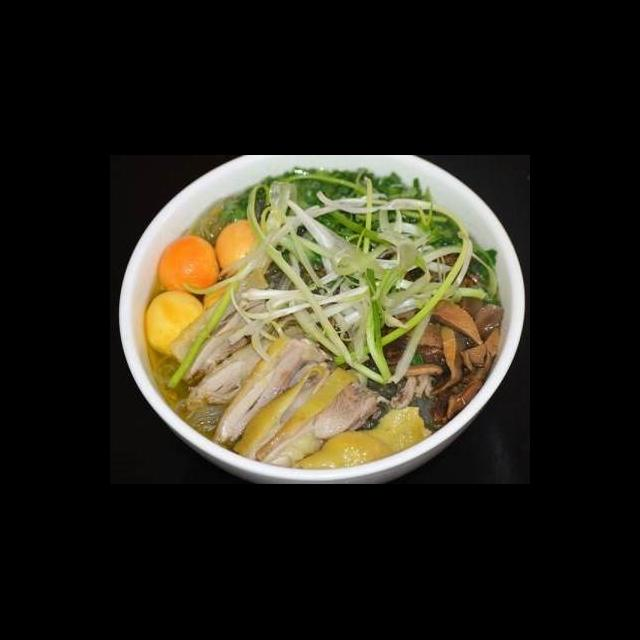thit ga: (208, 330, 339, 450), (254, 364, 387, 474), (168, 266, 284, 388), (183, 316, 314, 422), (229, 358, 340, 466), (290, 402, 437, 477)
trung: (142, 288, 207, 360), (156, 233, 222, 300), (211, 217, 273, 276)
